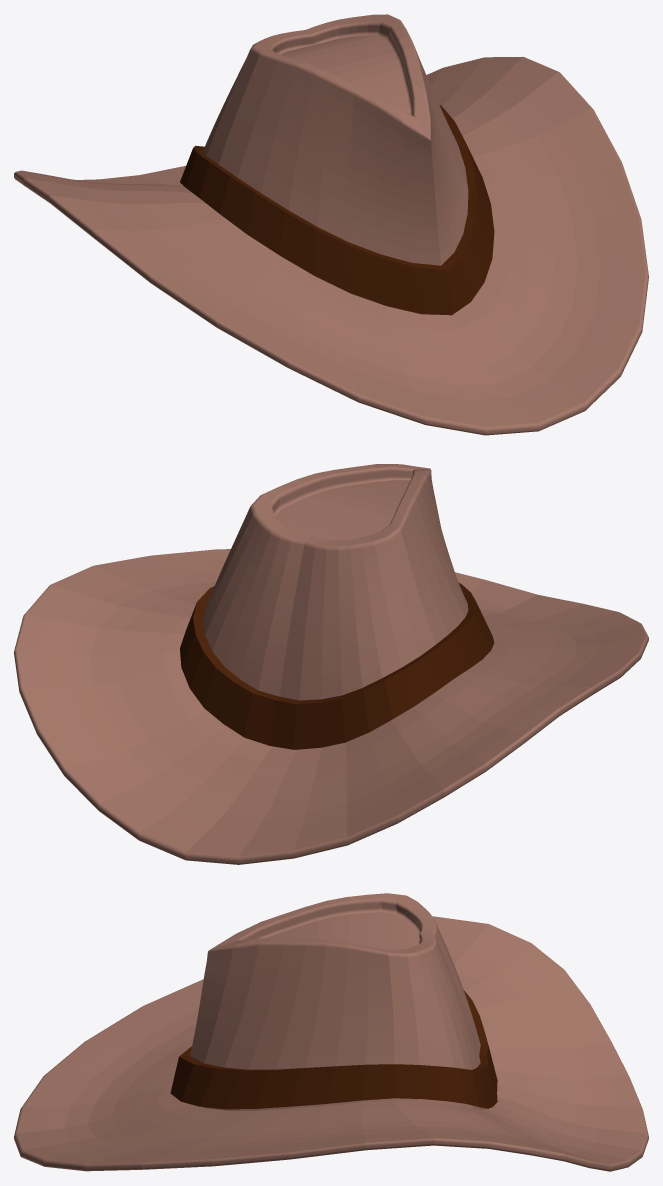
Rendered from Fresher cowboy hut.fbx.
3 renders of one model, top to bottom at view 1: azimuth 30°, elevation 25°; view 2: azimuth 150°, elevation 25°; view 3: azimuth 270°, elevation 25°, orthographic. The views are drawn at different scales.
Visible parts, largest first — view 1: Hut, Gurt; view 2: Hut, Gurt; view 3: Hut, Gurt.
Boxes of the visible parts, x1=… form: Hut: x1=14, y1=14, x2=648, y2=435; Gurt: x1=180, y1=105, x2=494, y2=315; Hut: x1=14, y1=464, x2=648, y2=864; Gurt: x1=180, y1=582, x2=494, y2=749; Hut: x1=14, y1=893, x2=648, y2=1171; Gurt: x1=170, y1=990, x2=497, y2=1109.
Size of the model in its own units: 416 by 191 by 500.
